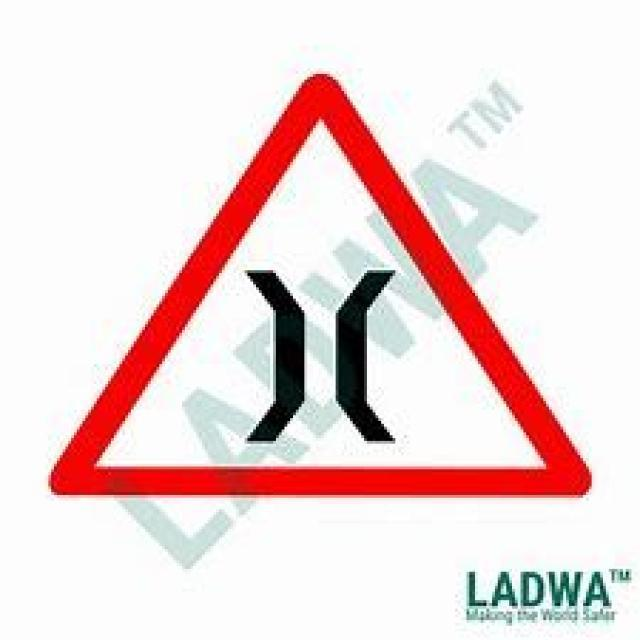narrow bridge ahead: (47, 73, 588, 495)
